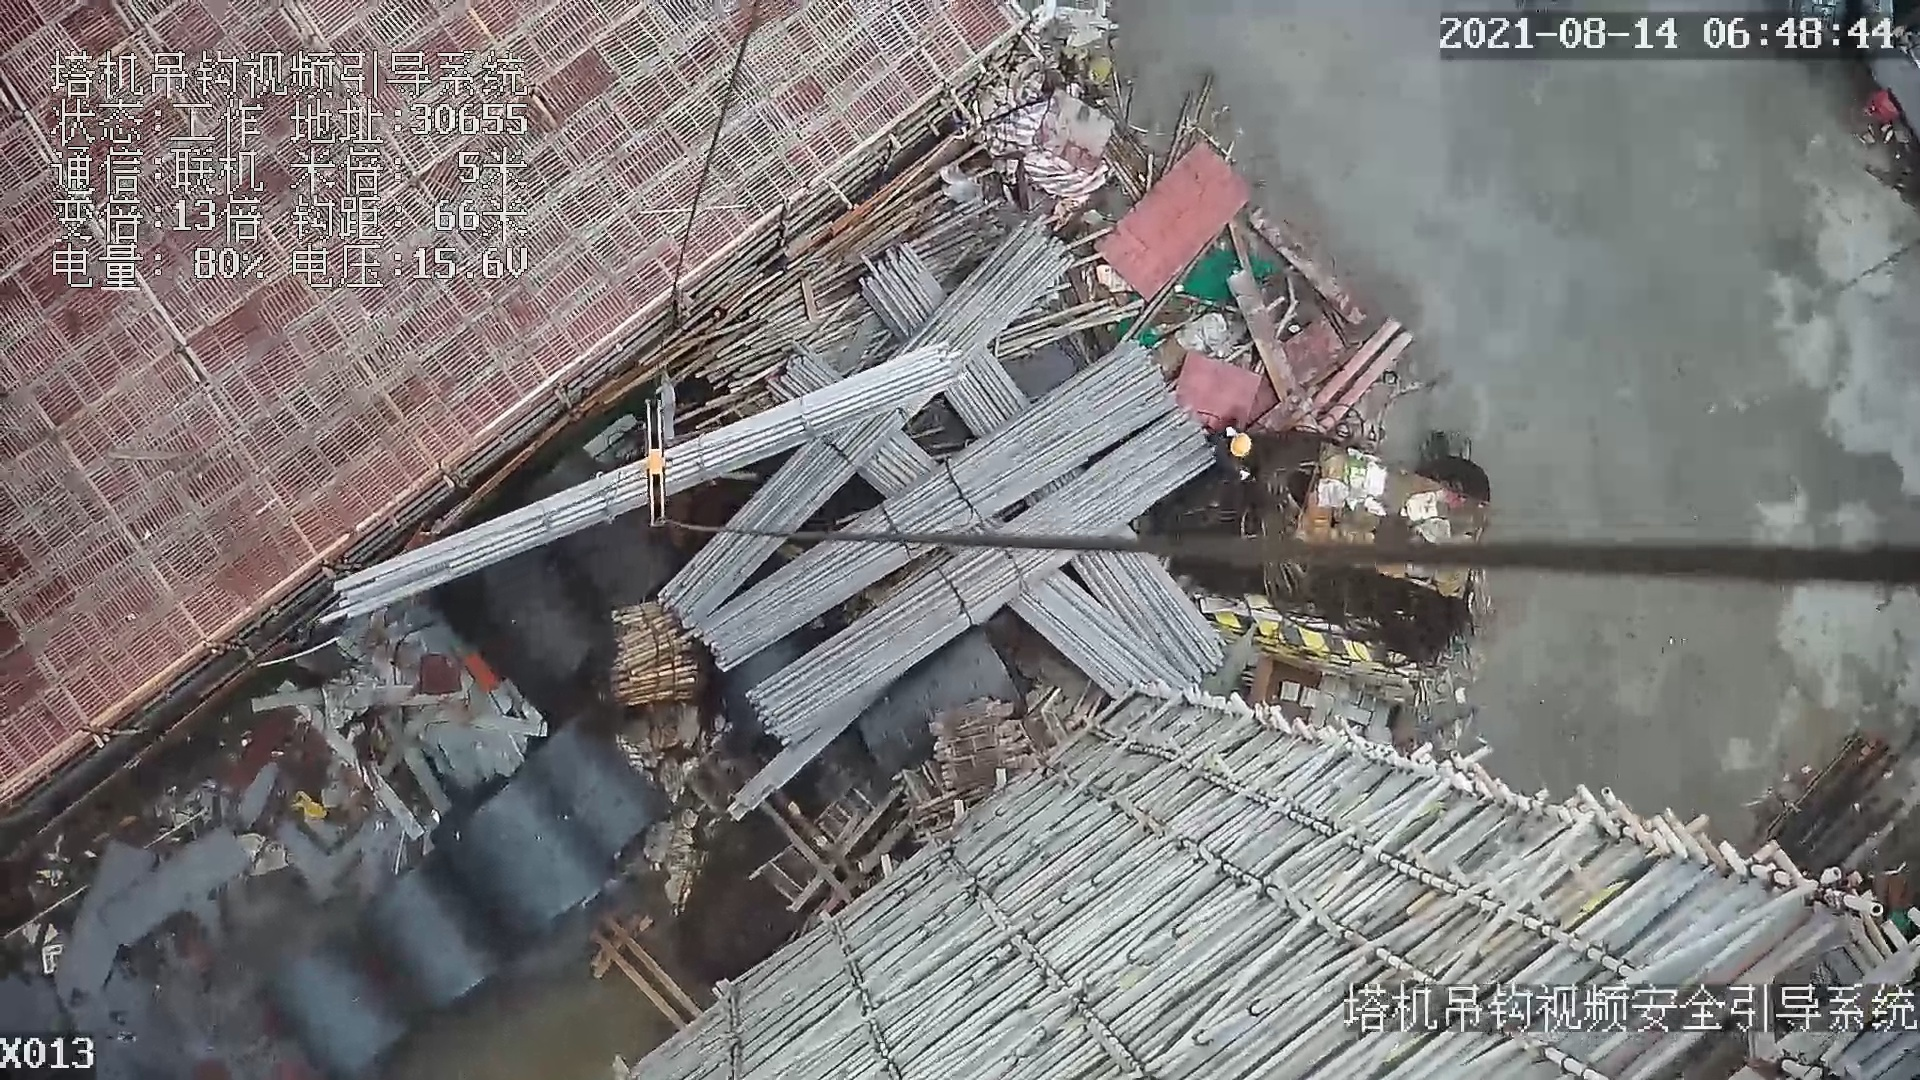board: (1112, 143, 1249, 306)
helmet: (1232, 427, 1259, 461)
hook: (636, 399, 674, 532)
person: (1205, 409, 1259, 483)
scaffold: (603, 604, 704, 702)
